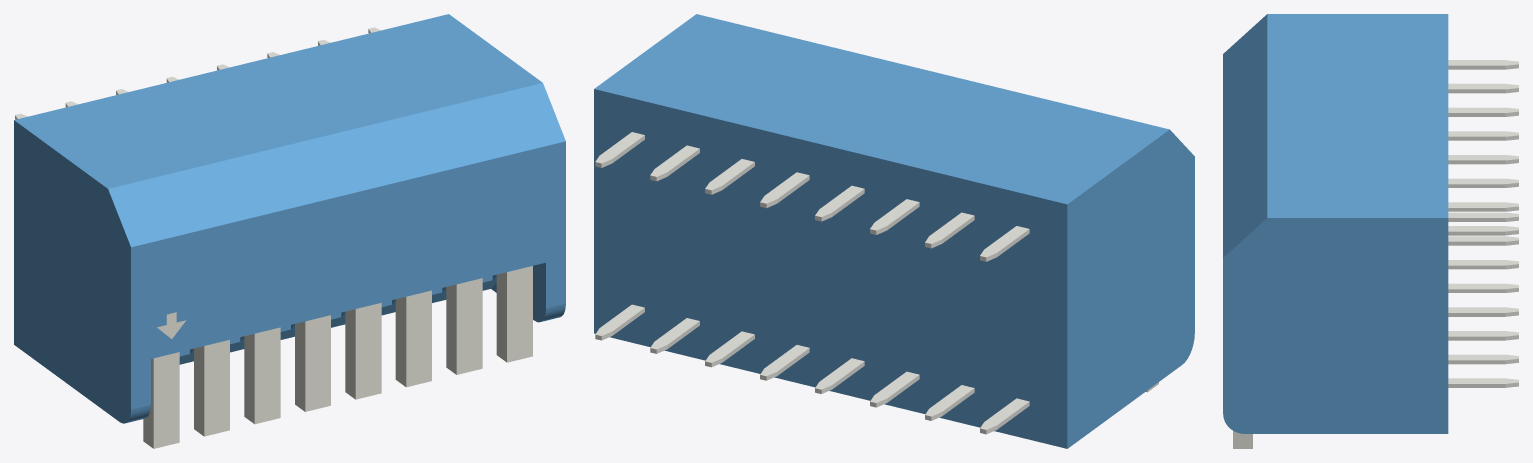
The model's file is SW_DIP_SPSTx08_Piano_10.8x21.88mm_W7.62mm_P2.54mm.glb.
The picture shows the model from 3 angles, left to right: view 1: azimuth 30°, elevation 25°; view 2: azimuth 150°, elevation 25°; view 3: azimuth 270°, elevation 25°; orthographic projection. The views are drawn at different scales.
Visible parts, largest first — view 1: Shape_IndexedFaceSet.001, Shape_IndexedFaceSet.005, Shape_IndexedFaceSet.003, Shape_IndexedFaceSet.008, Shape_IndexedFaceSet.091, Shape_IndexedFaceSet.084, Shape_IndexedFaceSet.104, Shape_IndexedFaceSet.111, Shape_IndexedFaceSet.101, Shape_IndexedFaceSet.094, Shape_IndexedFaceSet.081, Shape_IndexedFaceSet.114 (+9 smaller); view 2: Shape_IndexedFaceSet.006, Shape_IndexedFaceSet.005, Shape_IndexedFaceSet.008; view 3: Shape_IndexedFaceSet, Shape_IndexedFaceSet.005, Shape_IndexedFaceSet.003, Shape_IndexedFaceSet.030, Shape_IndexedFaceSet.068, Shape_IndexedFaceSet.038, Shape_IndexedFaceSet.060, Shape_IndexedFaceSet.053, Shape_IndexedFaceSet.055, Shape_IndexedFaceSet.019, Shape_IndexedFaceSet.027, Shape_IndexedFaceSet.035 (+8 smaller).
Boxes of the visible parts, x1,y1,x2,y2 form: Shape_IndexedFaceSet.001: (131,141,565,409); Shape_IndexedFaceSet.005: (14,14,542,188); Shape_IndexedFaceSet.003: (108,83,565,247); Shape_IndexedFaceSet.008: (14,120,130,423); Shape_IndexedFaceSet.091: (456,278,482,374); Shape_IndexedFaceSet.084: (153,352,179,448); Shape_IndexedFaceSet.104: (254,327,280,424); Shape_IndexedFaceSet.111: (355,303,381,399); Shape_IndexedFaceSet.101: (406,290,431,387); Shape_IndexedFaceSet.094: (204,340,229,436); Shape_IndexedFaceSet.081: (507,266,532,362); Shape_IndexedFaceSet.114: (305,315,330,411); Shape_IndexedFaceSet.006: (594,89,1067,448); Shape_IndexedFaceSet.005: (594,14,1169,204); Shape_IndexedFaceSet.008: (1067,129,1194,448); Shape_IndexedFaceSet: (1223,218,1448,433); Shape_IndexedFaceSet.005: (1267,14,1448,217); Shape_IndexedFaceSet.003: (1223,14,1267,257); Shape_IndexedFaceSet.030: (1448,83,1518,89); Shape_IndexedFaceSet.068: (1448,354,1518,360); Shape_IndexedFaceSet.038: (1448,178,1518,184); Shape_IndexedFaceSet.060: (1448,283,1518,289); Shape_IndexedFaceSet.053: (1448,331,1518,336); Shape_IndexedFaceSet.055: (1448,131,1518,136); Shape_IndexedFaceSet.019: (1448,236,1518,241); Shape_IndexedFaceSet.027: (1448,60,1518,65); Shape_IndexedFaceSet.035: (1448,107,1518,112).
Bounding box in the file's own units: 8.61 × 4.8 × 5.28.
